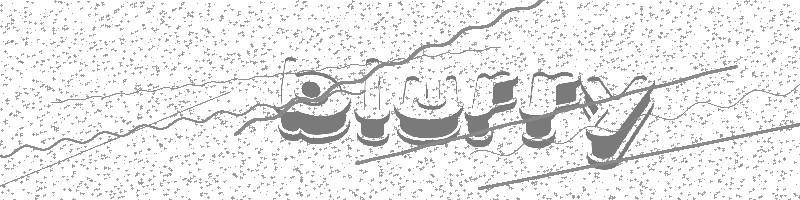b: (279, 54, 352, 145)
l: (353, 57, 390, 147)
r: (523, 70, 580, 150), (464, 70, 520, 151)
u: (391, 73, 463, 145)
y: (579, 72, 656, 173)
